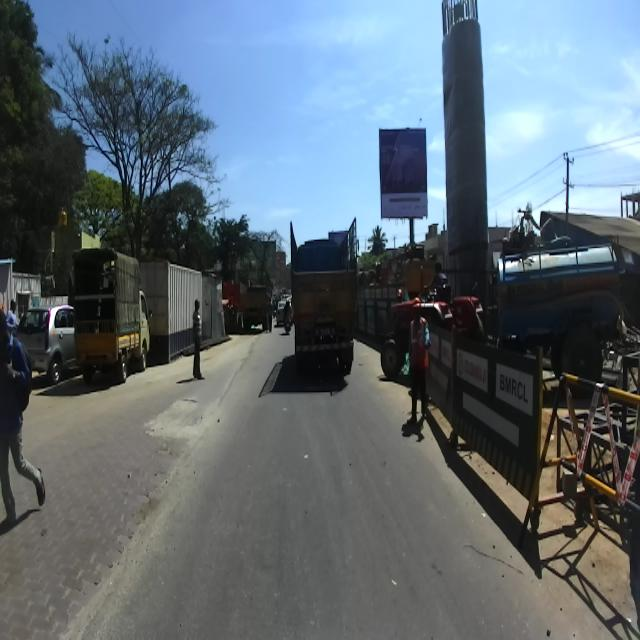barrier ahead at: (444, 324, 550, 538)
car ahead at: (70, 239, 152, 397)
person ahead at: (398, 301, 436, 448), (186, 296, 217, 391)
truck ahead at: (284, 210, 375, 398)
